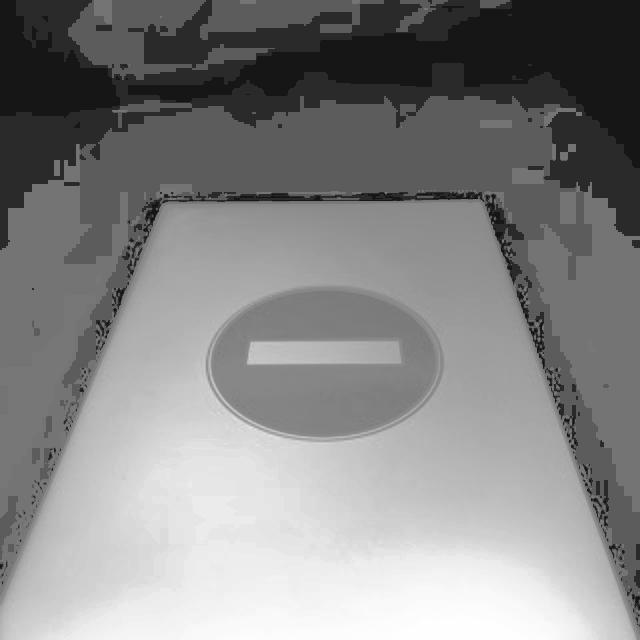NO ENTRY: (207, 286, 443, 440)
